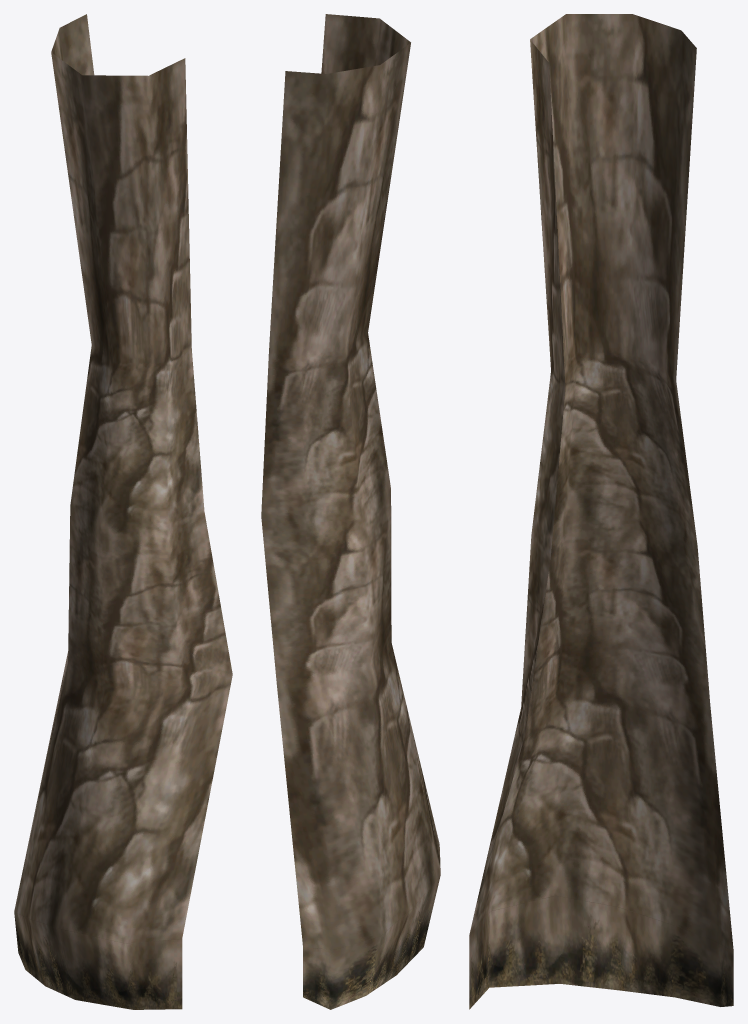
Rendered from OVERHILL_A_01_LINE327.fbx.
3 views of the same model, side by side, from view 1: azimuth 30°, elevation 25°; view 2: azimuth 150°, elevation 25°; view 3: azimuth 270°, elevation 25° (orthographic). The views are drawn at different scales.
Parts seen in each view (by area): view 1: OVERHILL_A_01_LINE327; view 2: OVERHILL_A_01_LINE327; view 3: OVERHILL_A_01_LINE327.
Part boxes in pixels (x1,y1,x2,y2): OVERHILL_A_01_LINE327: [14, 14, 232, 1009]; OVERHILL_A_01_LINE327: [261, 14, 440, 1009]; OVERHILL_A_01_LINE327: [469, 14, 733, 1009].
Bounding box in the file's own units: 15219 × 86184 × 20902.
Materials: 2 (2 with a texture image).
